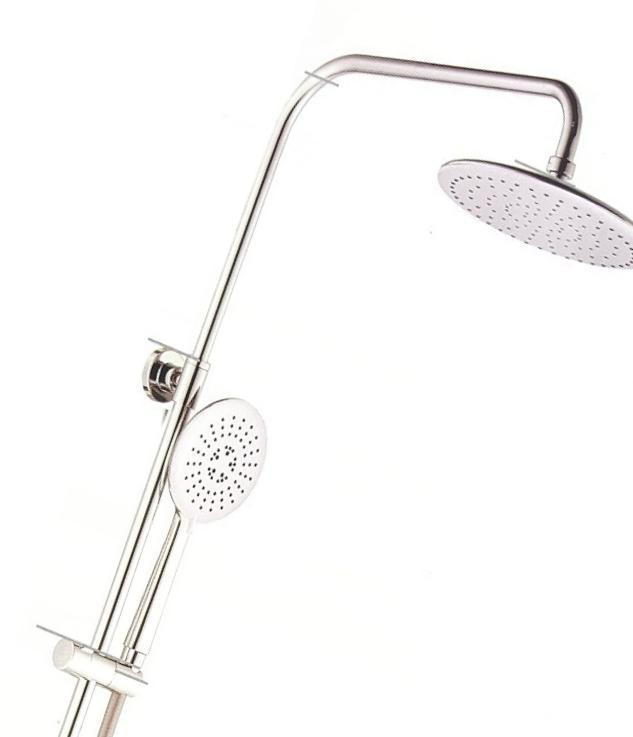Ducha: (40, 25, 632, 736)
